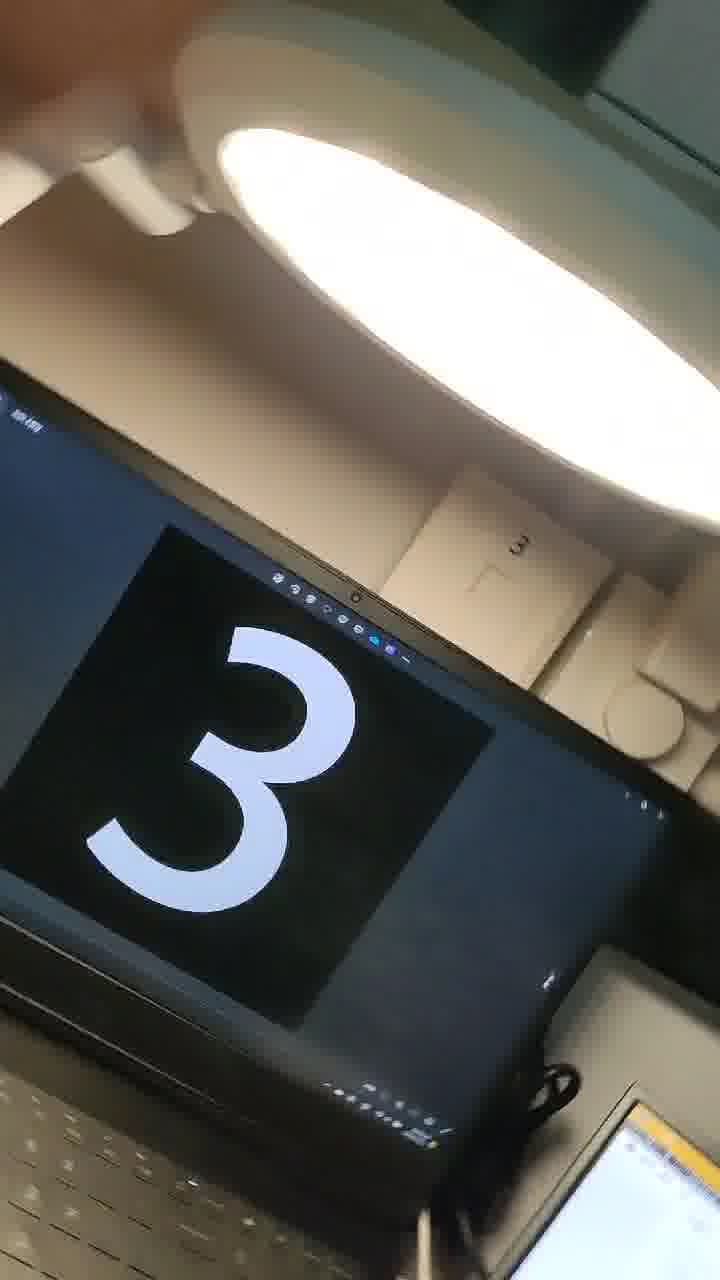three: (21, 554, 365, 959)
